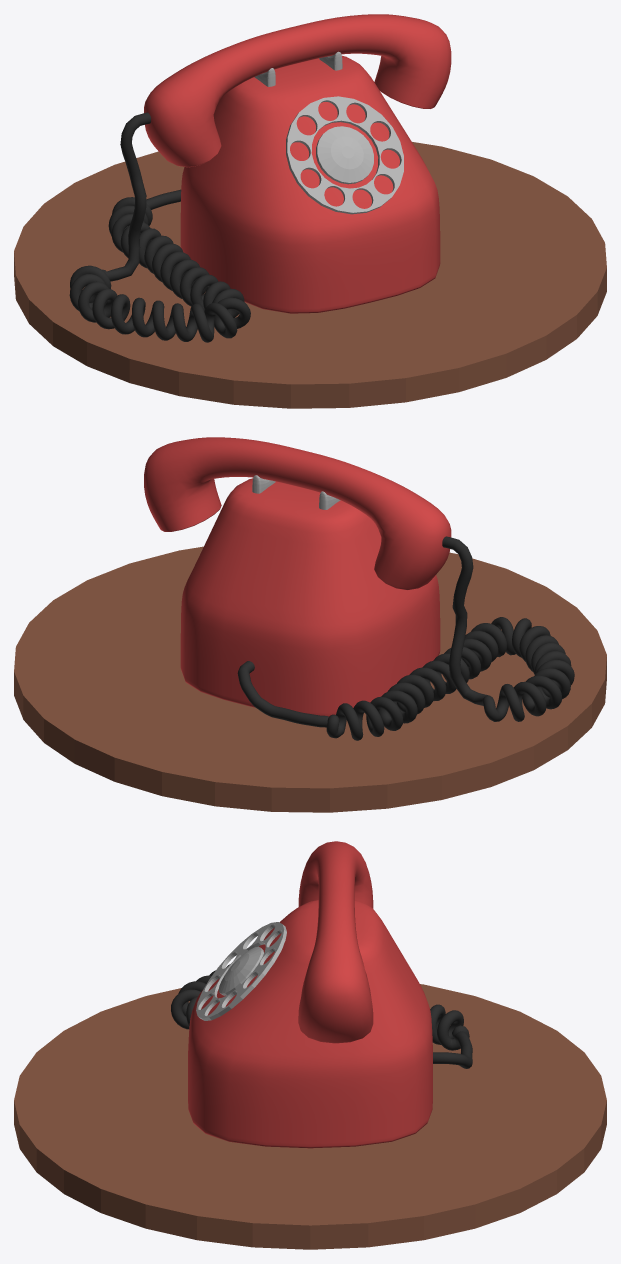
Rendered from lowpoly_phone.glb.
3 renders of one model, top to bottom at view 1: azimuth 30°, elevation 25°; view 2: azimuth 150°, elevation 25°; view 3: azimuth 270°, elevation 25°, orthographic.
Visible parts, largest first — view 1: Phone_joined; view 2: Phone_joined; view 3: Phone_joined.
Part boxes in pixels (x1,y1,x2,y2): Phone_joined: [14, 14, 606, 408]; Phone_joined: [14, 437, 606, 812]; Phone_joined: [14, 841, 606, 1249].
Bounding box in the file's own units: 11.94 × 5.44 × 11.94.
